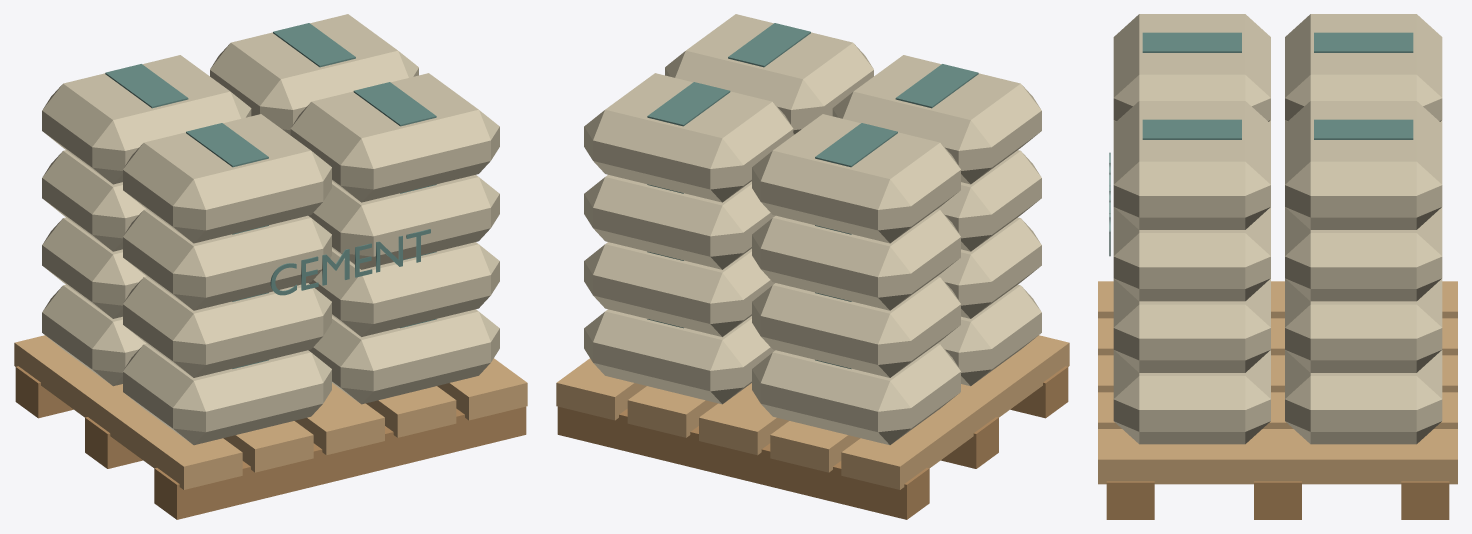
File: Cement_Bags.fbx
3 renders of one model, left to right at view 1: azimuth 30°, elevation 25°; view 2: azimuth 150°, elevation 25°; view 3: azimuth 270°, elevation 25°, orthographic. The views are drawn at different scales.
Parts seen in each view (by area): view 1: Cement Bag.012, Cement Bag.014, Cement Bag, Cement Bag.004, Cement Bag.008, Cement Bag.013, Cement Bag.015, Pallet Runner.003, Cement Bag.002, Cement Bag.006, Pallet Deck Board.005, Cement Bag.010 (+14 smaller); view 2: Cement Bag.013, Cement Bag.015, Cement Bag.005, Cement Bag.009, Cement Bag.001, Cement Bag.012, Cement Bag.014, Pallet Runner.005, Cement Bag.003, Cement Bag.007, Cement Bag.011, Pallet Deck Board.005 (+13 smaller); view 3: Cement Bag.014, Cement Bag.015, Pallet Deck Board.009, Cement Bag.012, Cement Bag.013, Cement Bag.006, Cement Bag.007, Cement Bag.002, Cement Bag.003, Cement Bag.010, Cement Bag.011, Cement Bag Printed Band.012 (+10 smaller).
Part boxes in pixels (x1,y1,x2,y2): Cement Bag.012: [123, 114, 331, 243]; Cement Bag.014: [290, 73, 499, 202]; Cement Bag: [123, 343, 331, 445]; Cement Bag.004: [123, 276, 331, 377]; Cement Bag.008: [123, 209, 331, 310]; Cement Bag.013: [42, 55, 251, 184]; Cement Bag.015: [210, 14, 418, 135]; Pallet Runner.003: [154, 406, 526, 519]; Cement Bag.002: [308, 309, 499, 404]; Cement Bag.006: [309, 242, 499, 336]; Pallet Deck Board.005: [14, 335, 242, 489]; Cement Bag.010: [308, 175, 499, 269]; Cement Bag.013: [752, 114, 960, 243]; Cement Bag.015: [584, 73, 793, 202]; Cement Bag.005: [752, 276, 960, 377]; Cement Bag.009: [752, 209, 960, 310]; Cement Bag.001: [752, 343, 960, 445]; Cement Bag.012: [832, 55, 1041, 184]; Cement Bag.014: [665, 14, 873, 135]; Pallet Runner.005: [557, 406, 929, 519]; Cement Bag.003: [584, 309, 775, 404]; Cement Bag.007: [584, 242, 774, 336]; Cement Bag.011: [584, 175, 775, 269]; Pallet Deck Board.005: [841, 335, 1069, 489]; Cement Bag.014: [1113, 101, 1270, 229]; Cement Bag.015: [1285, 101, 1442, 229]; Pallet Deck Board.009: [1098, 429, 1457, 484]; Cement Bag.012: [1113, 14, 1270, 121]; Cement Bag.013: [1285, 14, 1442, 121]; Cement Bag.006: [1113, 278, 1270, 372]; Cement Bag.007: [1285, 278, 1442, 372]; Cement Bag.002: [1113, 350, 1270, 444]; Cement Bag.003: [1285, 350, 1442, 444]; Cement Bag.010: [1113, 207, 1270, 301]; Cement Bag.011: [1285, 207, 1442, 301]; Cement Bag Printed Band.012: [1142, 32, 1241, 52].
Size of the model in its own units: 125 by 111 by 105.
